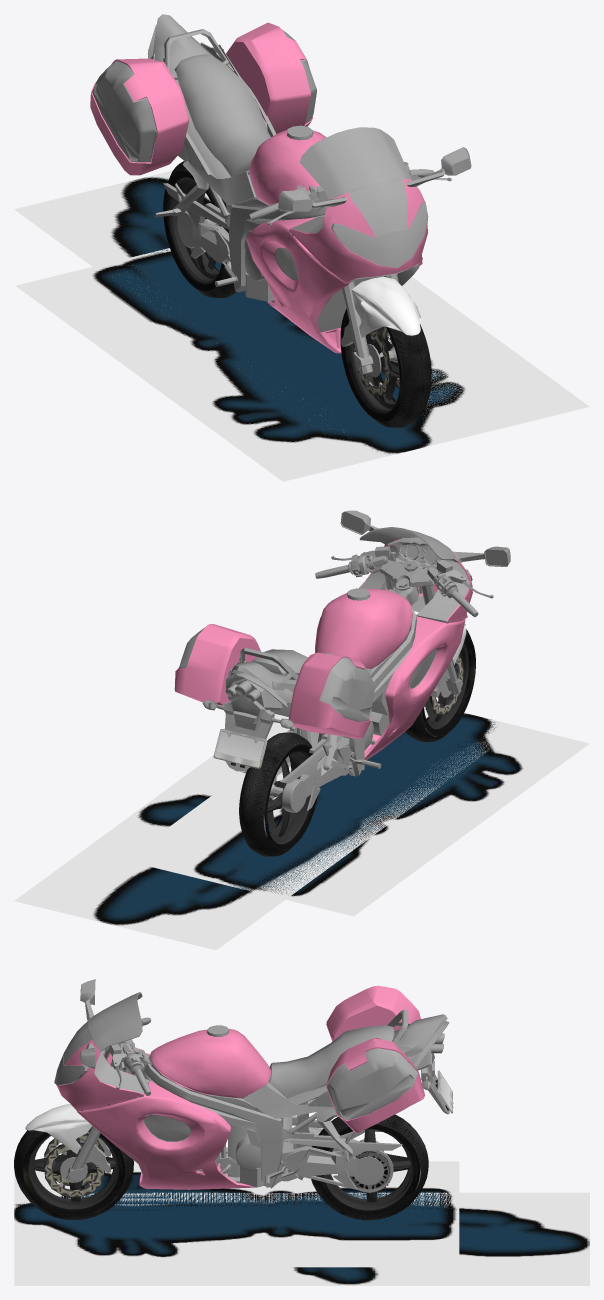
The model's file is bike2_01.fbx.
3 renders of one model, top to bottom at view 1: azimuth 30°, elevation 25°; view 2: azimuth 150°, elevation 25°; view 3: azimuth 270°, elevation 25°, orthographic. The views are drawn at different scales.
Parts seen in each view (by area): view 1: Shadow_DayLight, Body, Reflection, Shadow_SunSet, Lights, Mirror, Tyre_F, SteeringBody, SteeringChrome, Rim_F, Tyre_B, Rim_B; view 2: Shadow_DayLight, Shadow_SunSet, Body, Reflection, SteeringChrome, Tyre_B, Mirror, Rim_B, Tyre_F, Plate, Rim_F, Lights; view 3: Shadow_DayLight, Reflection, Shadow_SunSet, Body, Lights, Rim_F, Tyre_B, Tyre_F, SteeringChrome, Rim_B, Mirror, SteeringBody.
Boxes of the visible parts, left/top/right/bottom form: Shadow_DayLight: left=15, top=248, right=543, bottom=481; Body: left=90, top=22, right=428, bottom=353; Reflection: left=92, top=14, right=471, bottom=332; Shadow_SunSet: left=14, top=170, right=589, bottom=458; Lights: left=174, top=54, right=427, bottom=267; Mirror: left=299, top=127, right=411, bottom=199; Tyre_F: left=340, top=308, right=431, bottom=427; SteeringBody: left=351, top=276, right=420, bottom=337; SteeringChrome: left=249, top=162, right=451, bottom=377; Rim_F: left=349, top=326, right=399, bottom=412; Tyre_B: left=163, top=161, right=236, bottom=298; Rim_B: left=169, top=177, right=219, bottom=283; Shadow_DayLight: left=124, top=706, right=589, bottom=916; Shadow_SunSet: left=14, top=709, right=520, bottom=950; Body: left=174, top=538, right=472, bottom=760; Reflection: left=178, top=510, right=510, bottom=812; SteeringChrome: left=315, top=546, right=493, bottom=697; Tyre_B: left=239, top=732, right=317, bottom=856; Mirror: left=342, top=512, right=507, bottom=565; Rim_B: left=267, top=750, right=310, bottom=844; Tyre_F: left=405, top=629, right=475, bottom=742; Plate: left=213, top=729, right=267, bottom=768; Rim_F: left=424, top=642, right=468, bottom=729; Lights: left=202, top=569, right=472, bottom=728; Shadow_DayLight: left=14, top=1161, right=459, bottom=1267; Reflection: left=64, top=979, right=449, bottom=1192; Shadow_SunSet: left=14, top=1192, right=589, bottom=1285; Body: left=56, top=985, right=424, bottom=1189; Lights: left=54, top=1025, right=442, bottom=1100; Rim_F: left=28, top=1131, right=119, bottom=1209; Tyre_B: left=311, top=1114, right=428, bottom=1220; Tyre_F: left=14, top=1127, right=133, bottom=1220; SteeringChrome: left=60, top=1017, right=151, bottom=1182; Rim_B: left=324, top=1128, right=413, bottom=1210; Mirror: left=87, top=992, right=142, bottom=1051; SteeringBody: left=25, top=1104, right=92, bottom=1153.
Bounding box in the file's own units: 145 × 120 × 285.
